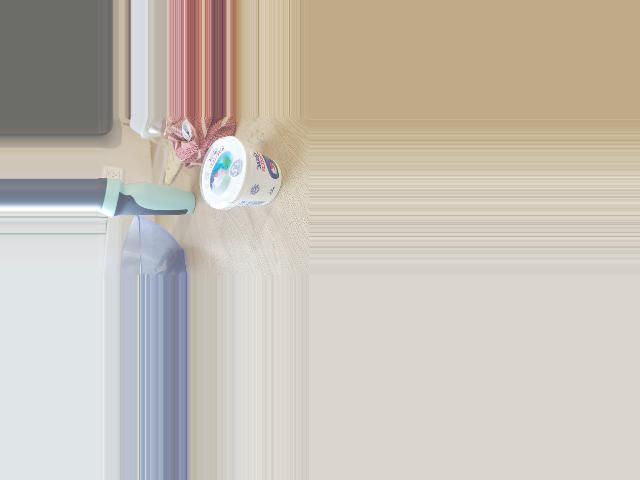cotage: (194, 148, 285, 213)
